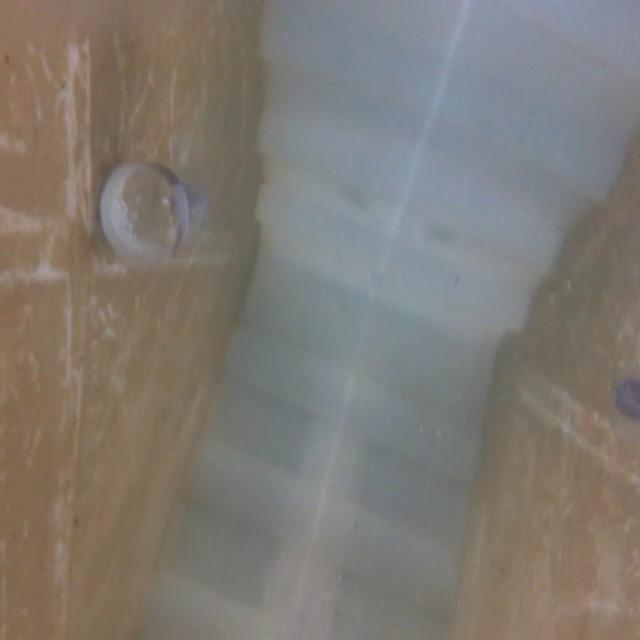plastic bottle: (46, 143, 226, 282)
